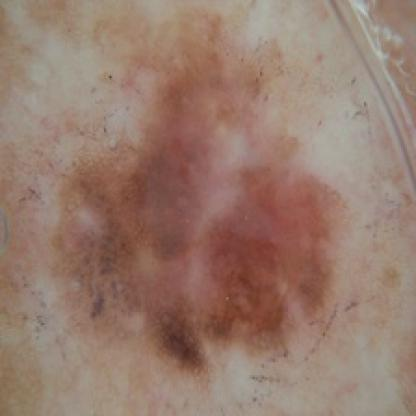malignant: (54, 67, 340, 355)
